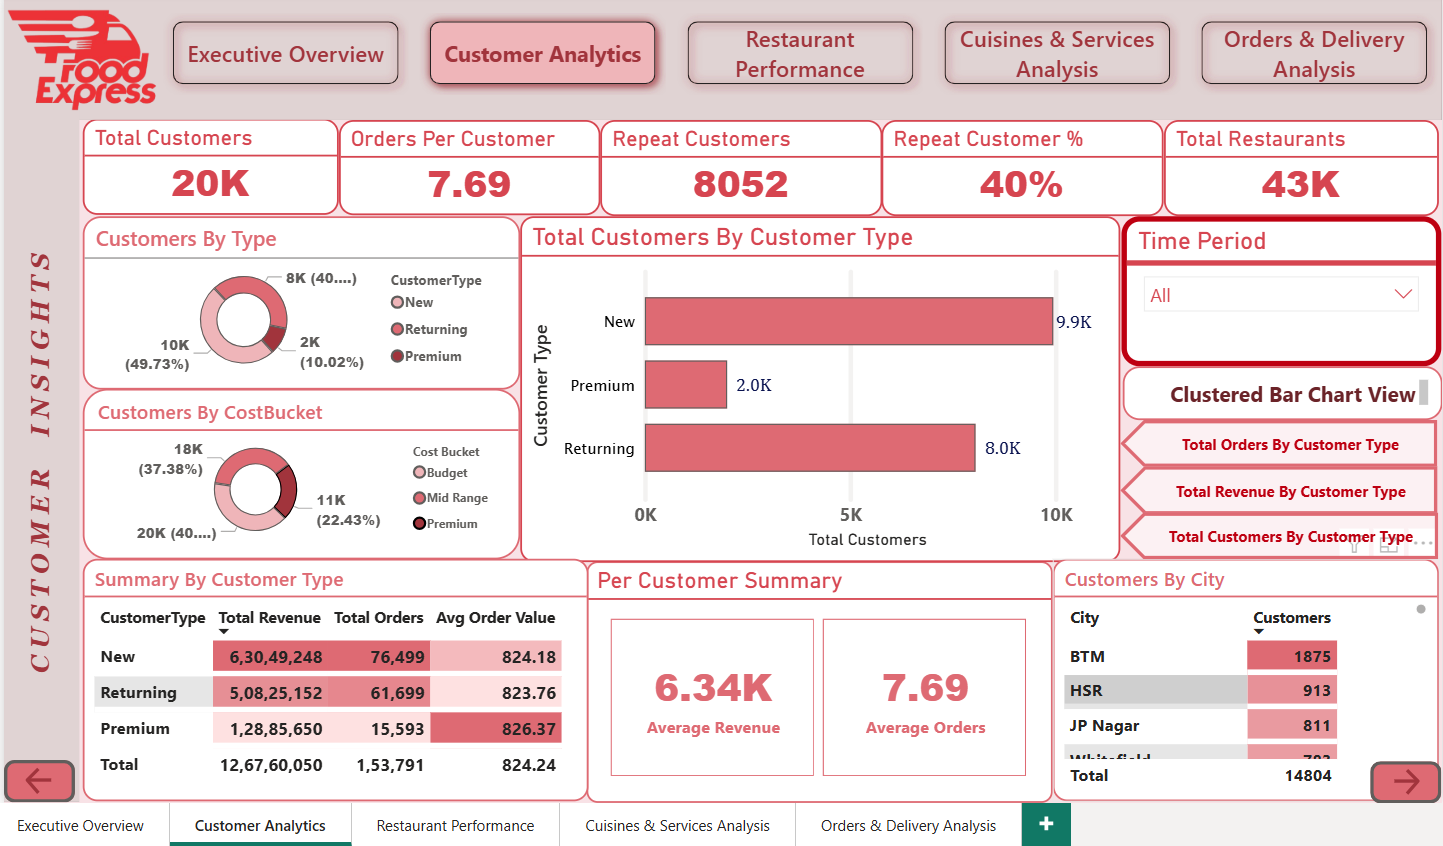

The dashboard page shown, as its layout file describes it:
{"tool":"powerbi","page":{"name":"Customer Analytics","canvas":[1280,720],"ordinal":1},"visuals":[{"type":"pageNavigator","box":[0,0,1280.3,81.9],"z":0},{"type":"card","title":"Orders Per Customer","fields":{"Values":["Orders.Orders Per Customer"]},"box":[241.4,74.9,247.1,114.3],"z":0,"group":"g1"},{"type":"group","id":"g1","title":"Group 1","box":[0,73.8,1280,117.5],"z":1000},{"type":"card","title":"Total Customers","fields":{"Values":["Orders.Total Customers"]},"box":[0,73.8,241.9,116.1],"z":1000,"group":"g1"},{"type":"card","title":"Repeat Customers","fields":{"Values":["Orders.Repeat Customers"]},"box":[487.9,74.8,266.3,116.1],"z":2000,"group":"g1"},{"type":"actionButton","box":[0,678.8,82.5,41.2],"z":2000},{"type":"card","title":"Repeat Customer %","fields":{"Values":["Orders.Repeat Customer %"]},"box":[754.2,74.8,266.3,116.1],"z":3000,"group":"g1"},{"type":"clusteredBarChart","title":"Revenue By City","fields":{"Category":["Customers.CustomerType"],"Y":["Orders.Total Revenue"]},"box":[433.3,188.3,651.7,266.7],"z":3000,"group":"g2"},{"type":"donutChart","title":"Count of Customers By Type","fields":{"Category":["Customers.CustomerType"],"Y":["CountNonNull(Customers.CustomerType)"]},"box":[0,191.7,433.3,263.3],"z":3000},{"type":"card","title":"Total Restaurants","fields":{"Values":["Orders.Total Restaurants"]},"box":[1020.5,74.8,259.5,116.1],"z":4000,"group":"g1"},{"type":"group","id":"g2","title":"Group 7","box":[433.3,188.3,651.7,266.7],"z":4000}]}

Visuals, with their boxes on the page's 1280x720 design canvas (x1, y1, x2, y2). These are canvas units, not pixel positions in the 1443x846 screenshot, which may show the page scaled, cropped or inside an application window:
pageNavigator: 0:0:1280:82
"Orders Per Customer" card: 241:75:488:189
"Group 1" group: 0:74:1280:191
"Total Customers" card: 0:74:242:190
"Repeat Customers" card: 488:75:754:191
actionButton: 0:679:82:720
"Repeat Customer %" card: 754:75:1020:191
"Revenue By City" clusteredBarChart: 433:188:1085:455
"Count of Customers By Type" donutChart: 0:192:433:455
"Total Restaurants" card: 1020:75:1280:191
"Group 7" group: 433:188:1085:455
